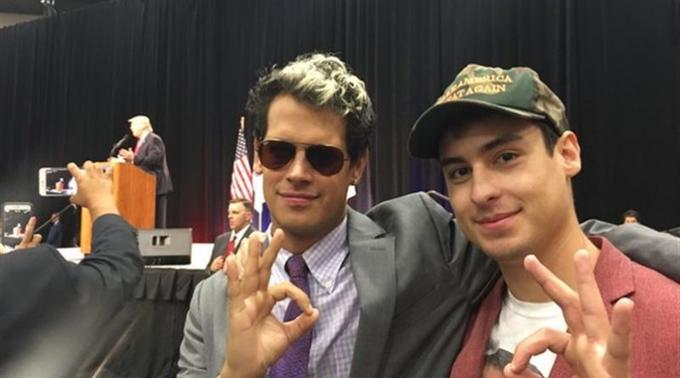oksign: (224, 230, 317, 371)
